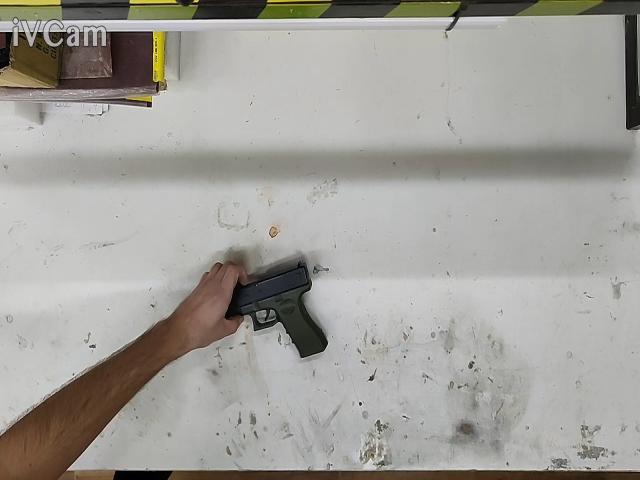Gun: (226, 262, 328, 357)
Hand: (0, 262, 248, 478)
